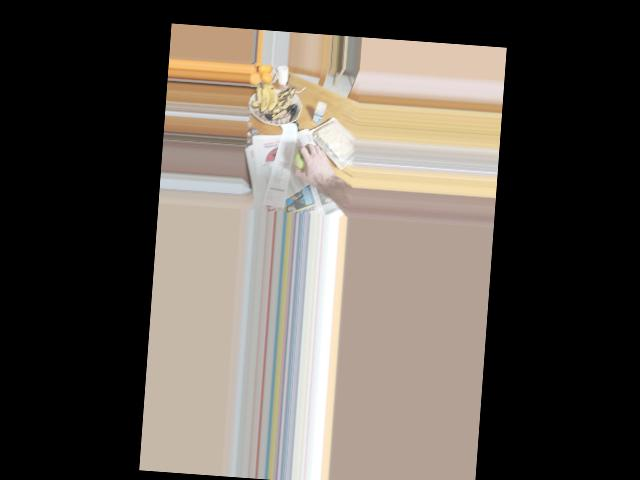apple: (293, 146, 320, 175)
